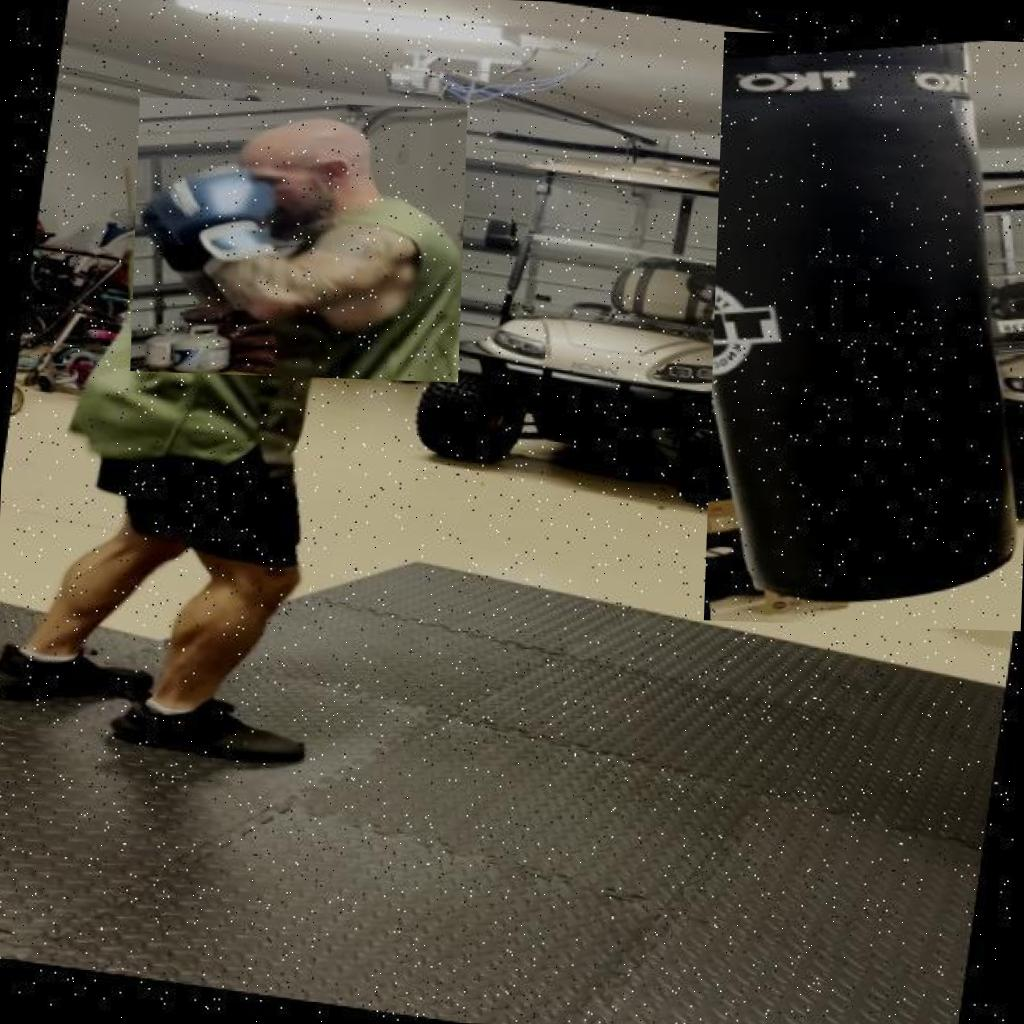bag: (703, 31, 1024, 631)
no punch: (130, 97, 467, 382)
